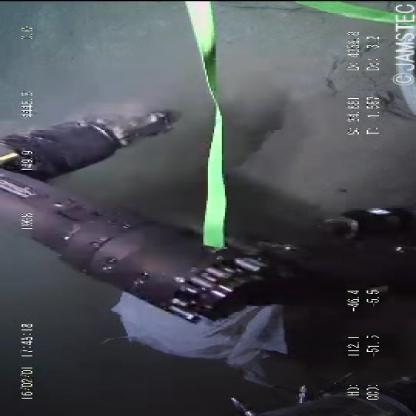Rov: (1, 104, 364, 324)
Rác: (105, 278, 296, 368)
